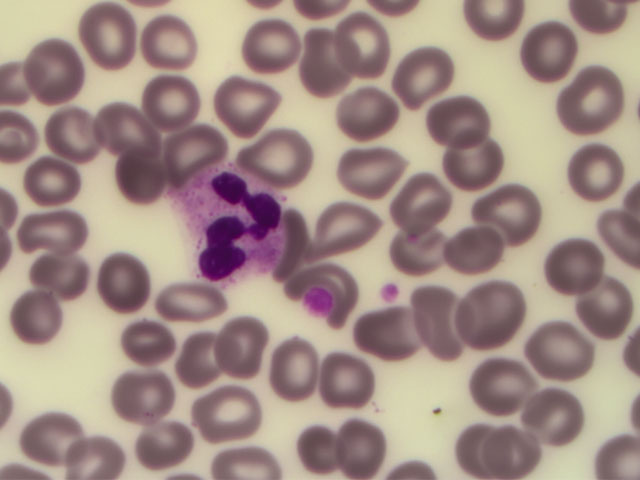Platelets: (380, 281, 404, 307)
RBC: (21, 38, 90, 106), (73, 2, 142, 70), (127, 6, 196, 74), (136, 67, 205, 135), (96, 87, 165, 155), (40, 100, 109, 168), (18, 146, 87, 214), (18, 192, 87, 260), (25, 230, 94, 298), (2, 283, 71, 351), (93, 249, 162, 317), (169, 261, 238, 329), (98, 307, 167, 375), (96, 349, 165, 417), (156, 327, 225, 395), (203, 307, 272, 375), (194, 382, 263, 450), (132, 412, 201, 480), (67, 412, 136, 480), (22, 412, 91, 480), (280, 412, 349, 480), (319, 412, 388, 480), (316, 347, 385, 415), (270, 331, 339, 399), (288, 260, 357, 328), (312, 193, 381, 261), (253, 120, 322, 188), (221, 75, 290, 143), (161, 109, 230, 177), (106, 139, 175, 207), (244, 9, 313, 77), (285, 41, 354, 109), (338, 3, 407, 71), (385, 37, 454, 105), (337, 81, 406, 149), (336, 139, 405, 207), (382, 158, 451, 226), (390, 216, 459, 284), (454, 216, 523, 284), (467, 170, 536, 238), (443, 137, 512, 205), (428, 89, 497, 157), (514, 25, 583, 93), (563, 65, 632, 133), (560, 140, 629, 208), (541, 216, 610, 284), (564, 264, 633, 332), (534, 312, 603, 380), (462, 271, 531, 339), (414, 284, 483, 352), (365, 311, 434, 379), (465, 350, 534, 418), (525, 381, 594, 449), (493, 412, 562, 480), (448, 412, 517, 480)
WBC: (175, 168, 288, 284)
